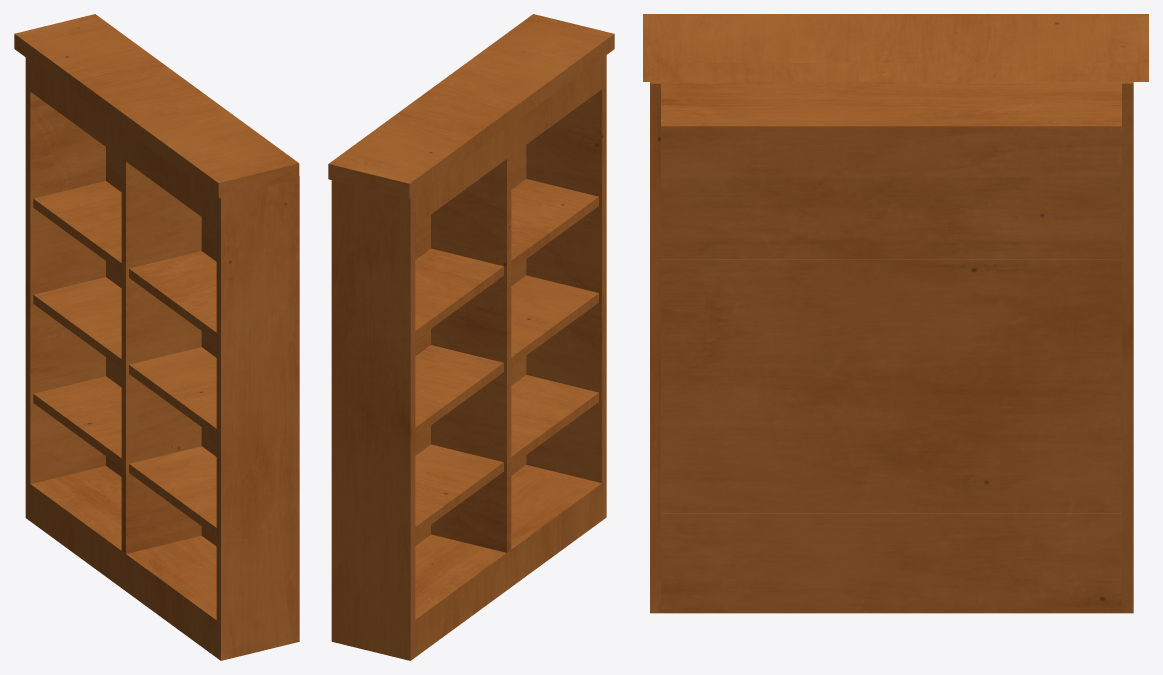
The model's file is BookShelfA.fbx.
3 renders of one model, left to right at view 1: azimuth 30°, elevation 25°; view 2: azimuth 150°, elevation 25°; view 3: azimuth 270°, elevation 25°, orthographic. The views are drawn at different scales.
Parts seen in each view (by area): view 1: BookshelfA; view 2: BookshelfA; view 3: BookshelfA.
Part boxes in pixels (x1,y1,x2,y2): BookshelfA: (14, 14, 299, 660); BookshelfA: (328, 14, 614, 660); BookshelfA: (643, 14, 1148, 613).
Bounding box in the file's own units: 46.52 × 255 × 196.
